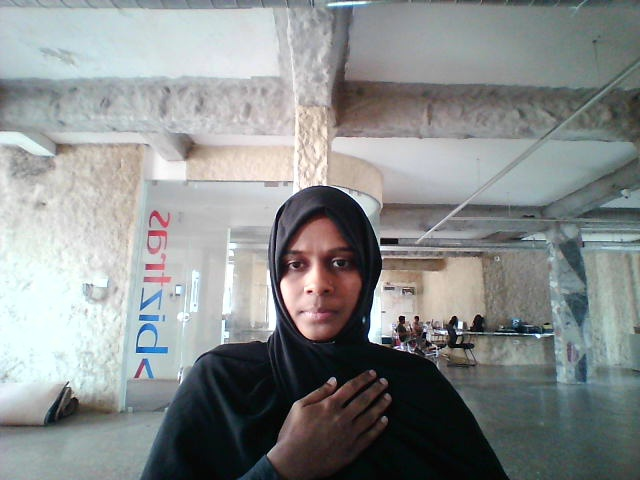PLEASE: (256, 349, 422, 476)
